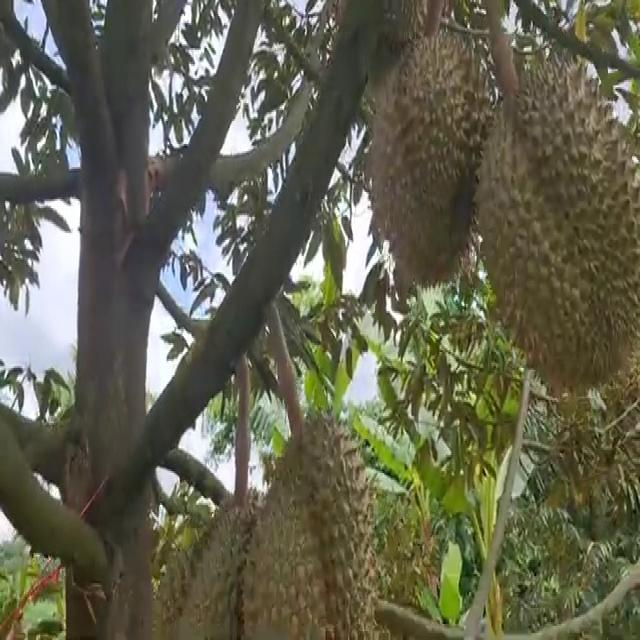durian: (470, 43, 639, 400), (360, 24, 499, 295), (241, 409, 381, 638), (168, 486, 278, 638), (370, 1, 428, 56)
